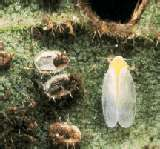whitefly: (96, 53, 138, 130)
